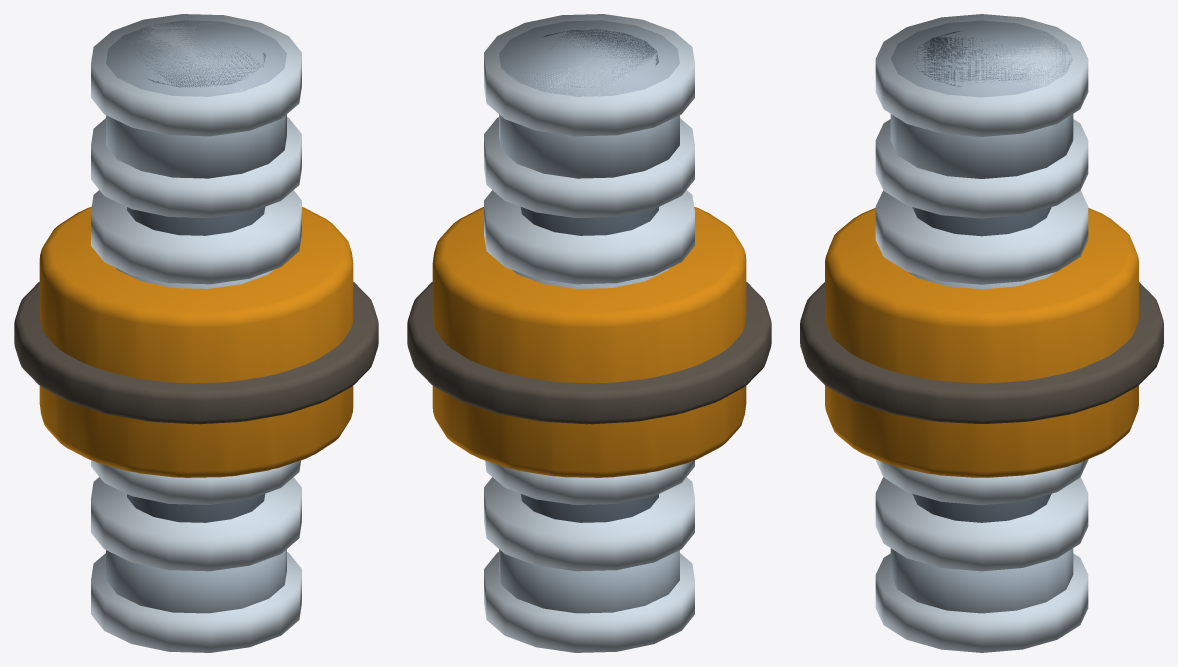
Rendered from pump.glb.
The picture shows the model from 3 angles, left to right: view 1: azimuth 30°, elevation 25°; view 2: azimuth 150°, elevation 25°; view 3: azimuth 270°, elevation 25°; orthographic projection.
Visible parts, largest first — view 1: Pump_Collar, Pump_Housing, Pump_Shell, Pump_Ring, Pump_Water; view 2: Pump_Collar, Pump_Housing, Pump_Shell, Pump_Ring, Pump_Water; view 3: Pump_Collar, Pump_Housing, Pump_Shell, Pump_Ring, Pump_Water.
Part boxes in pixels (x1,y1,x2,y2): Pump_Collar: (91,14,301,652); Pump_Housing: (39,207,353,477); Pump_Shell: (106,20,286,613); Pump_Ring: (14,282,378,424); Pump_Water: (127,45,265,522); Pump_Collar: (484,14,694,652); Pump_Housing: (432,207,746,477); Pump_Shell: (499,20,679,613); Pump_Ring: (407,282,771,424); Pump_Water: (520,29,658,522); Pump_Collar: (875,14,1088,652); Pump_Housing: (825,208,1138,477); Pump_Shell: (890,20,1073,613); Pump_Ring: (800,282,1163,423); Pump_Water: (912,31,1051,522).
Bounding box in the file's own units: 0.5982 × 0.996 × 0.5982.
